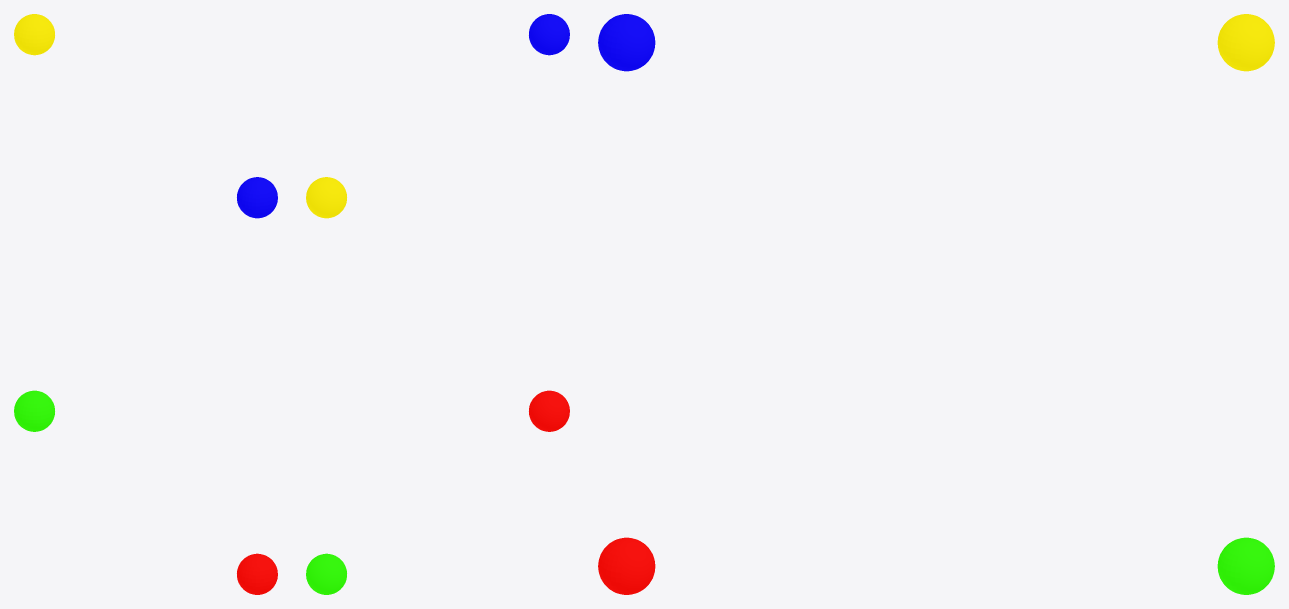
Rendered from glowingSpheres.glb.
3 renders of one model, left to right at view 1: azimuth 30°, elevation 25°; view 2: azimuth 150°, elevation 25°; view 3: azimuth 270°, elevation 25°, orthographic. The views are drawn at different scales.
Parts seen in each view (by area): view 1: SphereBlue1, SphereGreen1, SphereRed1, SphereYellow1; view 2: SphereRed1, SphereYellow1, SphereBlue1, SphereGreen1; view 3: SphereRed1, SphereBlue1, SphereYellow1, SphereGreen1.
Boxes of the visible parts, box(x1,y1,x2,y2) form: SphereBlue1: box(237, 177, 277, 218); SphereGreen1: box(14, 390, 54, 431); SphereRed1: box(237, 553, 277, 594); SphereYellow1: box(14, 14, 54, 55); SphereRed1: box(529, 390, 569, 431); SphereYellow1: box(306, 177, 346, 218); SphereBlue1: box(529, 14, 569, 55); SphereGreen1: box(306, 553, 346, 594); SphereRed1: box(598, 537, 655, 594); SphereBlue1: box(598, 14, 655, 71); SphereYellow1: box(1217, 14, 1274, 71); SphereGreen1: box(1217, 537, 1274, 594).
Size of the model in its own units: 0.2448 by 2.71 by 2.89.
